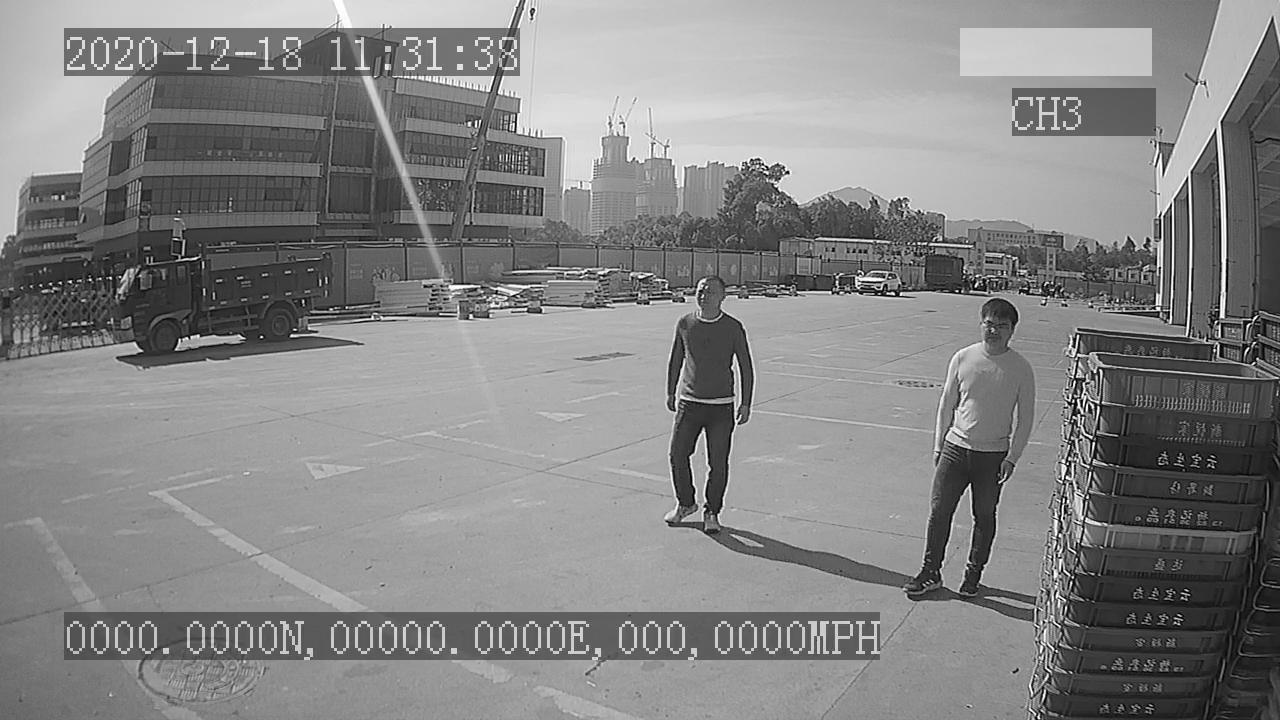person: (901, 295, 1036, 607), (662, 273, 761, 536)
